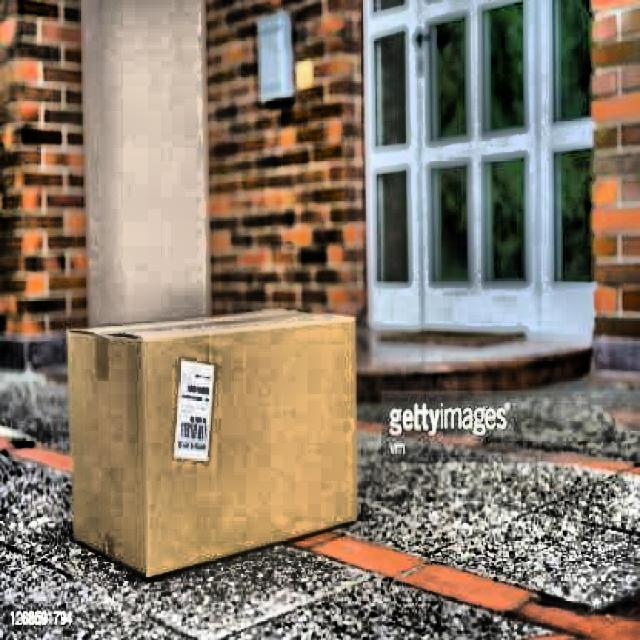Cardbox: (34, 276, 392, 588)
